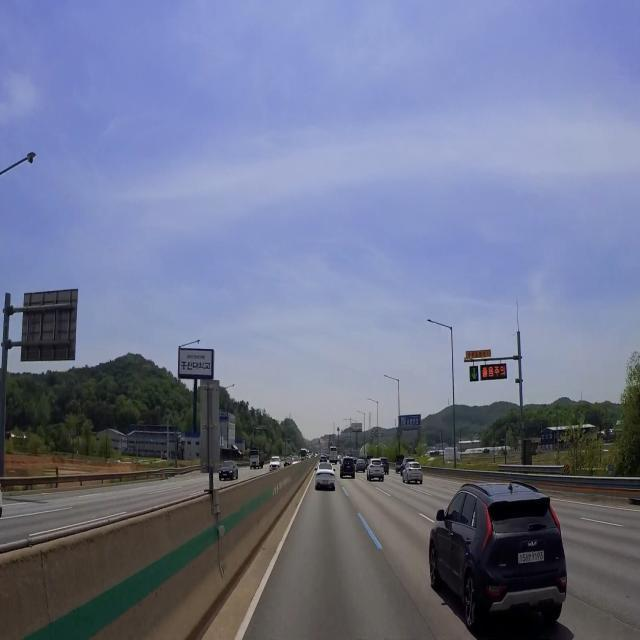car: (514, 543, 548, 570), (318, 477, 330, 488)
